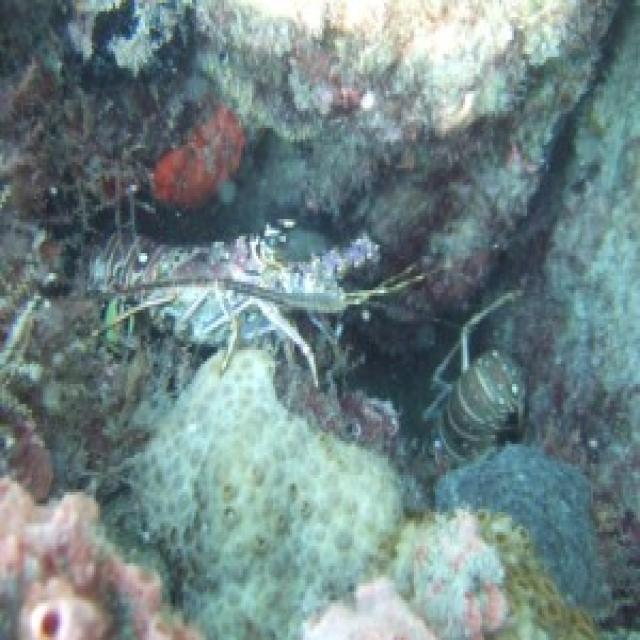lobsters: (23, 180, 503, 434), (439, 290, 574, 478)
